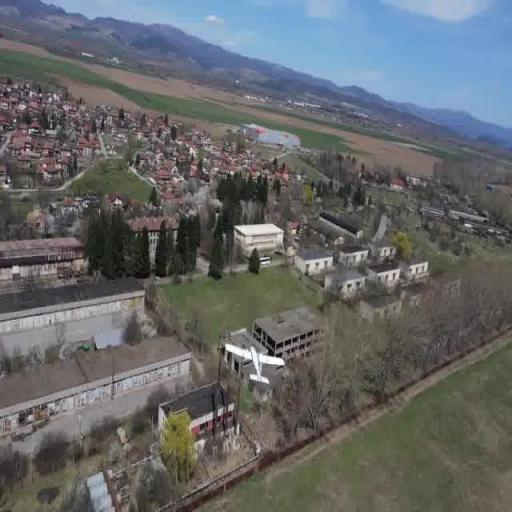uav: (222, 336, 288, 390)
